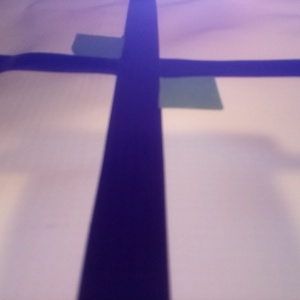bottom_right: (20, 122, 150, 194)
